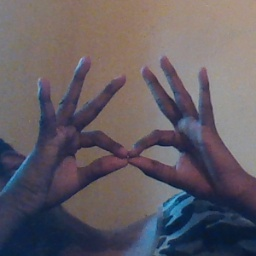B: (67, 98, 191, 199)
